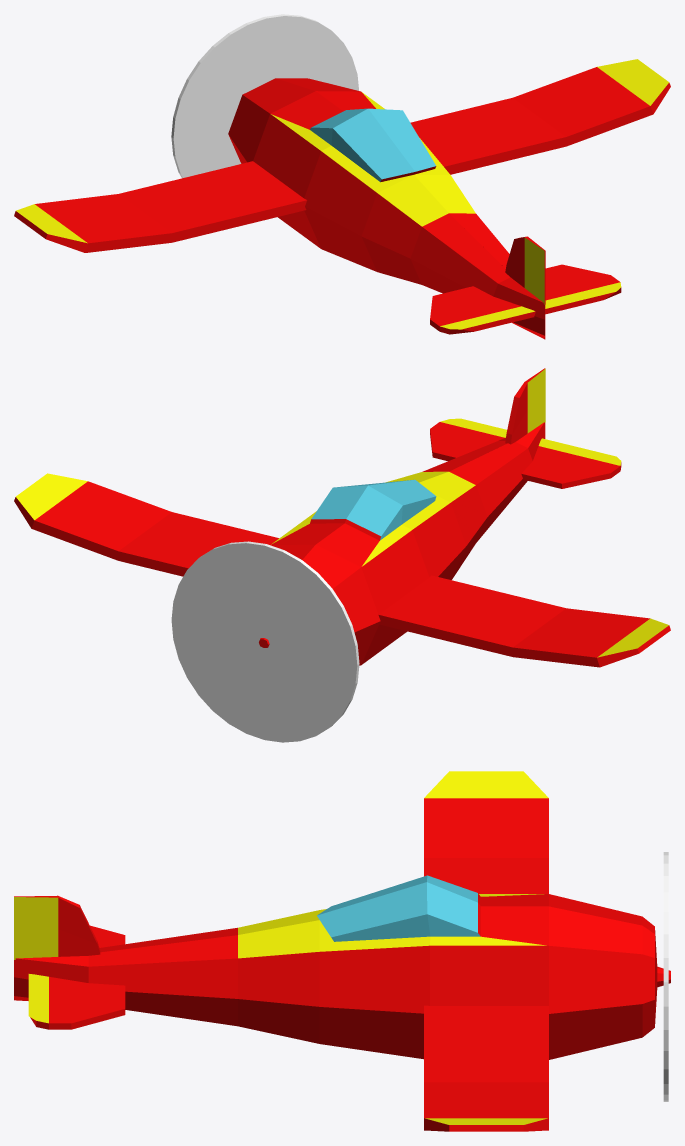
The model's file is airplane.fbx.
The picture shows the model from 3 angles, top to bottom: view 1: azimuth 30°, elevation 25°; view 2: azimuth 150°, elevation 25°; view 3: azimuth 270°, elevation 25°; orthographic projection. The views are drawn at different scales.
Parts seen in each view (by area): view 1: Cube; view 2: Cube; view 3: Cube.
Boxes of the visible parts, x1=… form: Cube: x1=14, y1=14, x2=670, y2=339; Cube: x1=14, y1=368, x2=670, y2=742; Cube: x1=14, y1=771, x2=670, y2=1131.
Bounding box in the file's own units: 1415 × 421 × 1104.
